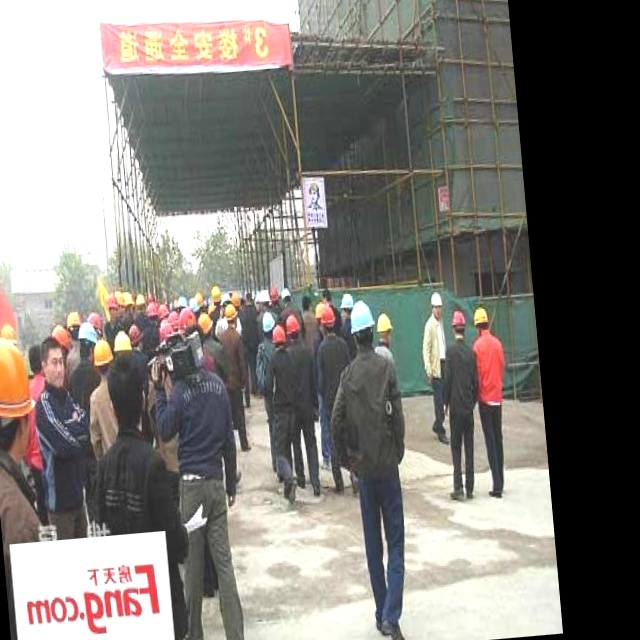Con_Casco: (348, 298, 378, 352), (429, 291, 445, 321)
Sin_Casco_Mascarrilla: (41, 335, 66, 390)
